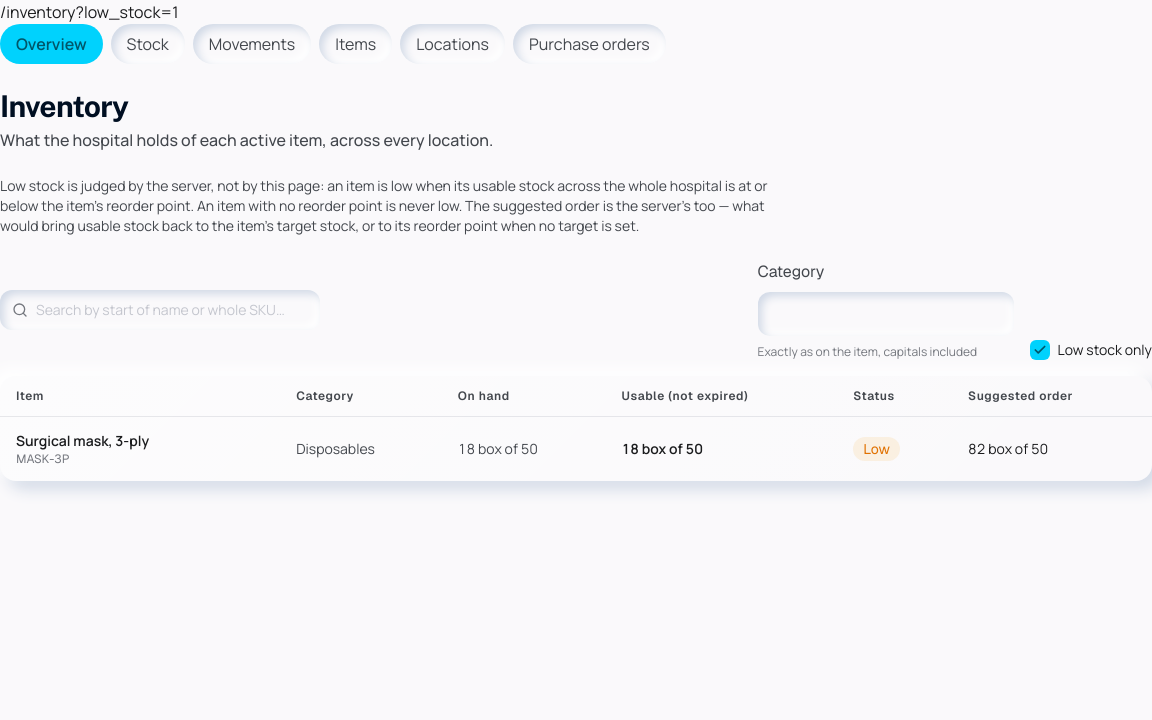
Test: inventory overview › says the low list is on when a search of it finds nothing, so an item that is not low is not taken for missing
Check: the row "Surgical mask" is shown, box [0, 416, 1151, 481]
The cannula exists and is not low.
Type "IV cannula" into the field labelled "Search by start of name or whole SKU…". click: (160, 310)
box: [0, 290, 320, 330]
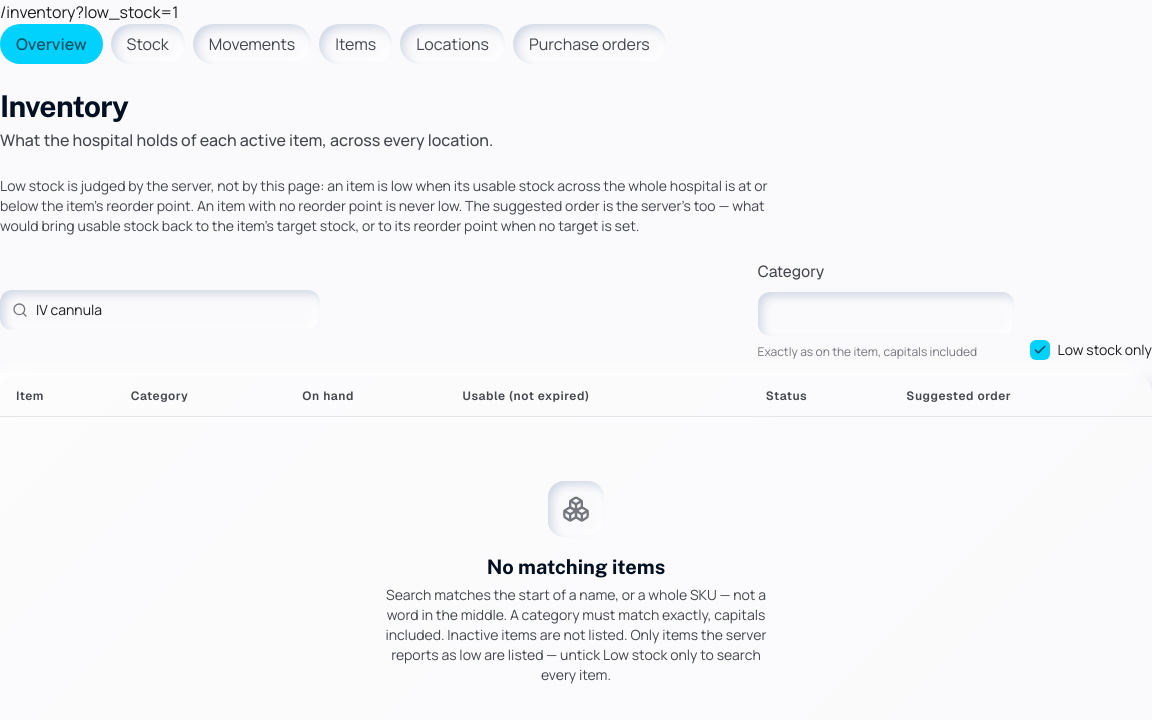
Check: the text "No matching items" is shown, box [487, 555, 665, 579]
Check: the text "Only items the server reports as low are listed — untick Low stock only to search every item." is shown, box [386, 585, 766, 684]
Click the checkbox named "Low stock only". click: (1040, 350)
box: [1030, 340, 1050, 360]
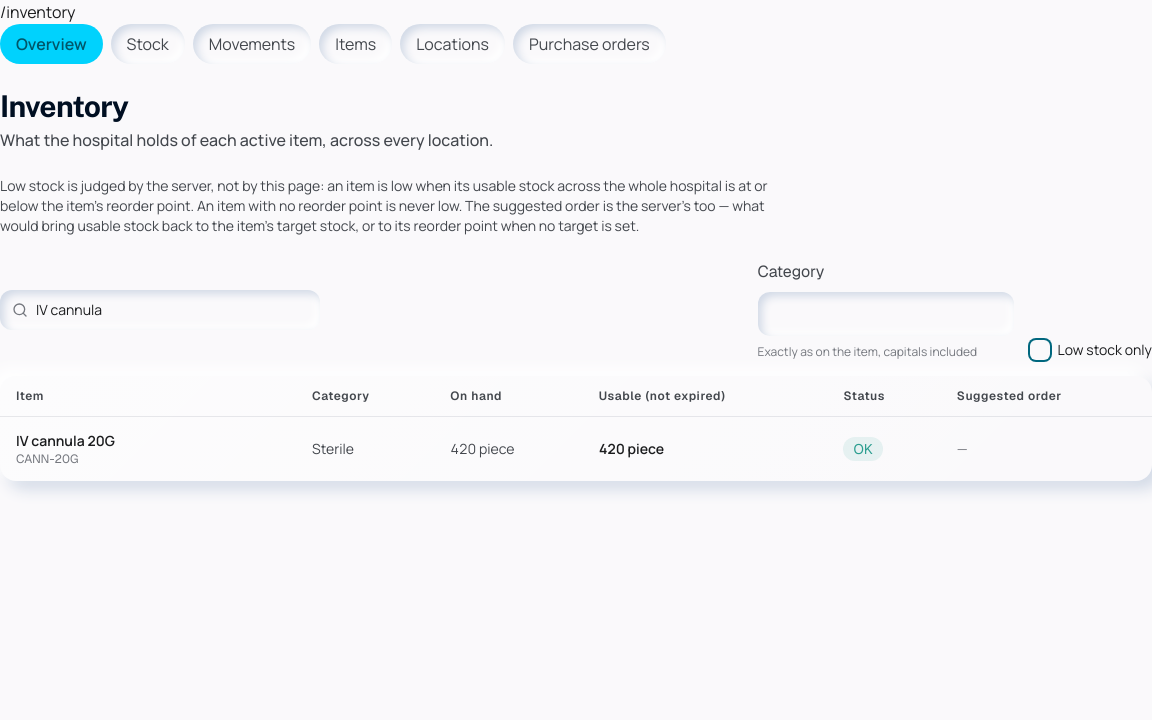
Check: the row "IV cannula 20G CANN-20G Sterile 420 piece 420 piece OK —" is shown, box [0, 416, 1151, 481]
Without the low list the sentence would be wrong, and is not shown.
Replace the text in the field named "Search by start of name or whole SKU…" with "cannula". click: (160, 310)
box: [0, 290, 320, 330]
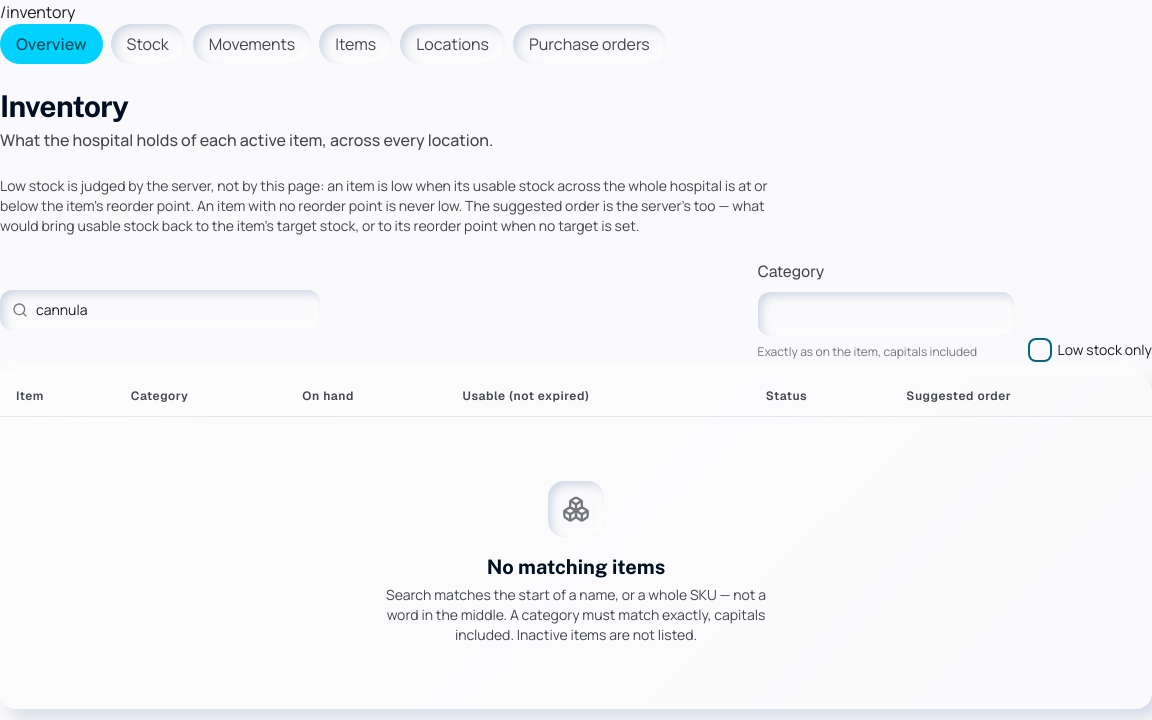
Check: the text "No matching items" is shown, box [487, 555, 665, 579]
